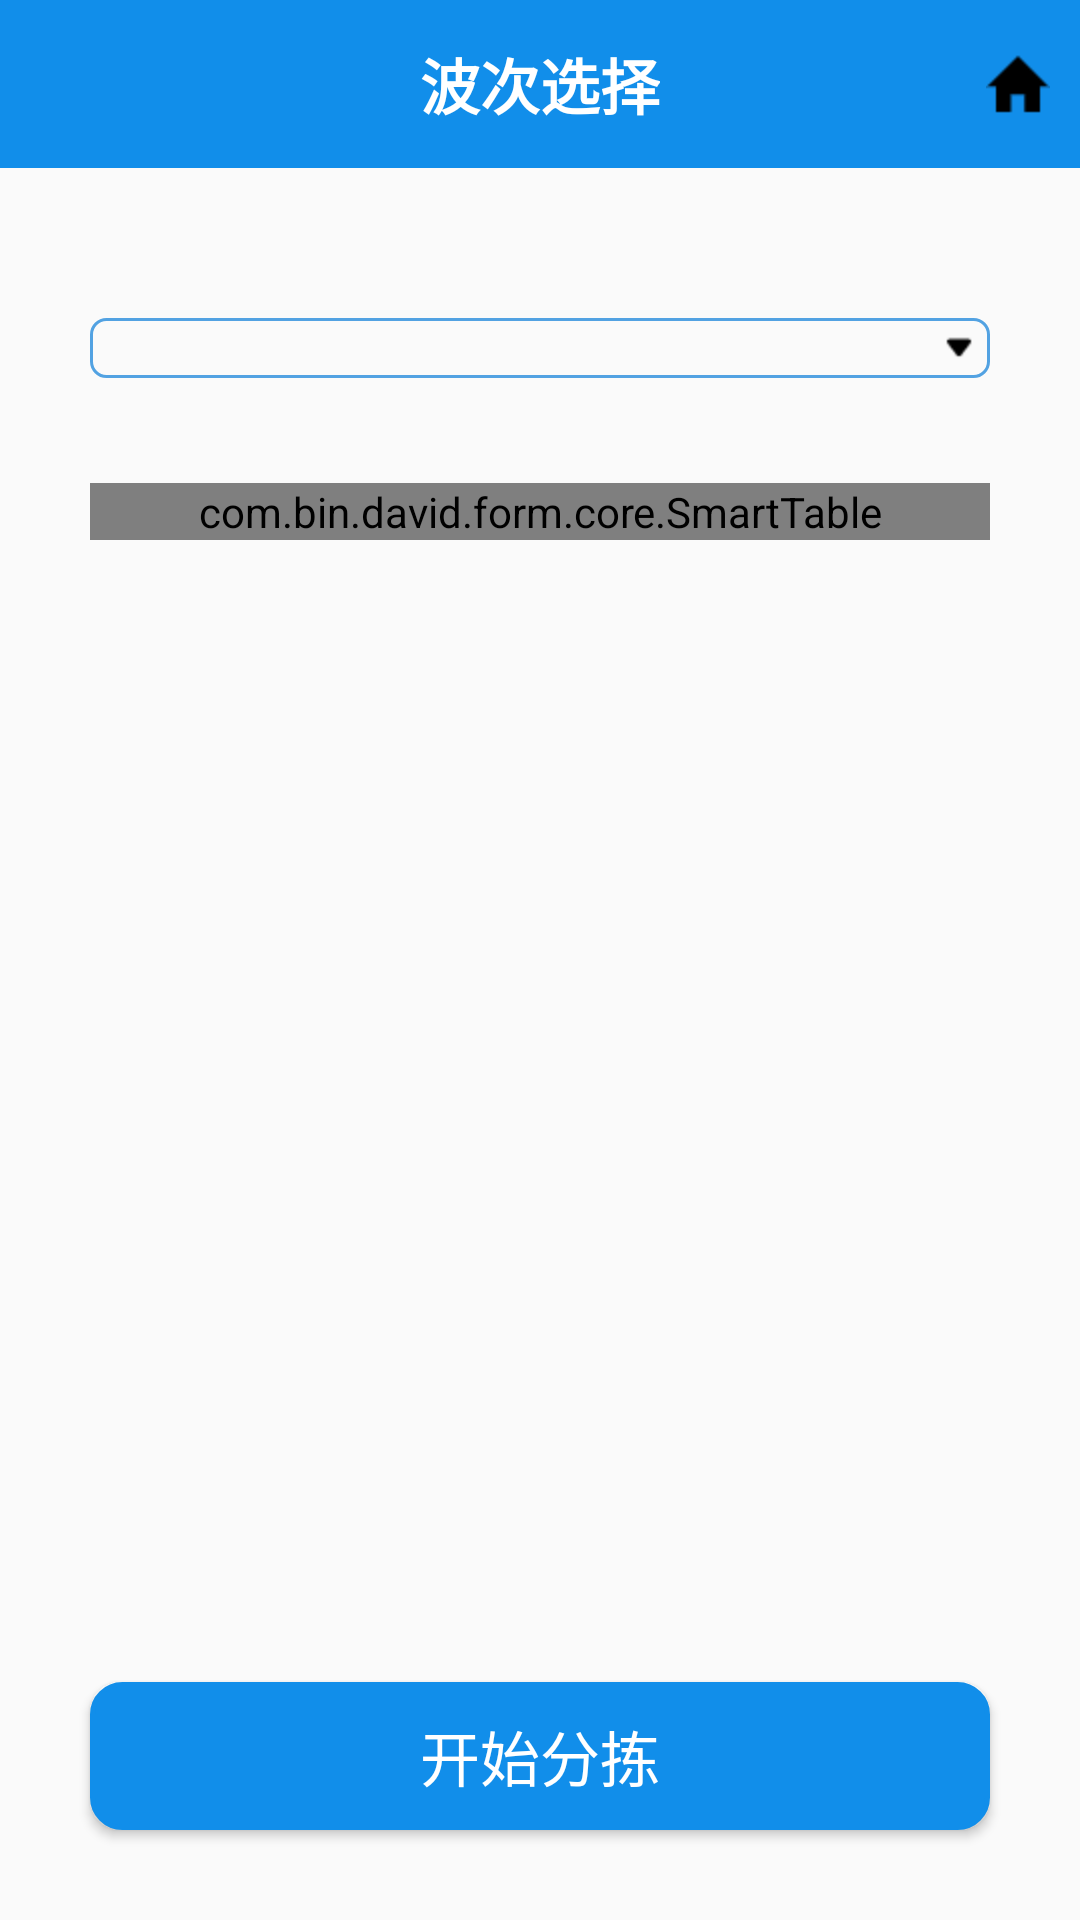

Locate icon controls on the screen. Image size 1080 × 1920, boxes as (x1, y1, x2, y2).
home: (986, 55, 1050, 113)
